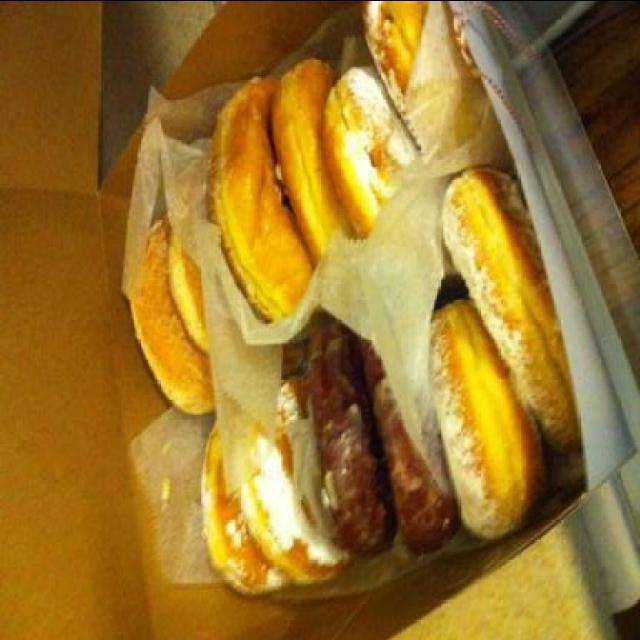Donuts: (126, 2, 618, 604)
